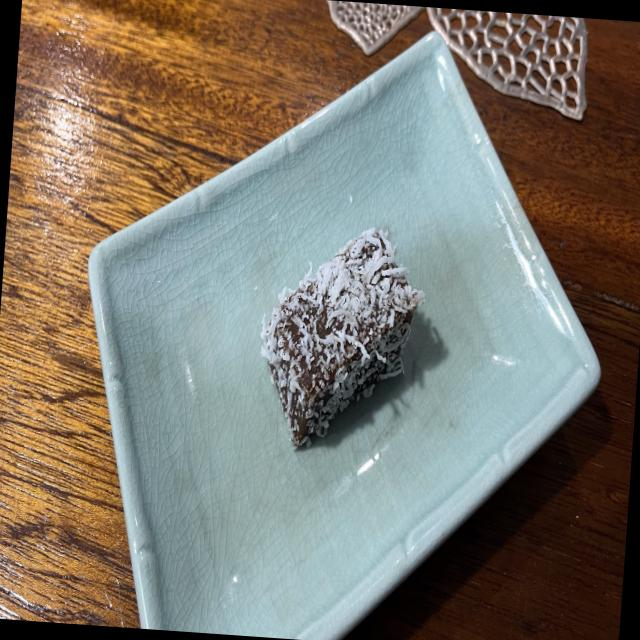kaswi: (260, 228, 423, 447)
